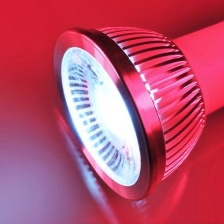light_bulb: (43, 13, 209, 208)
